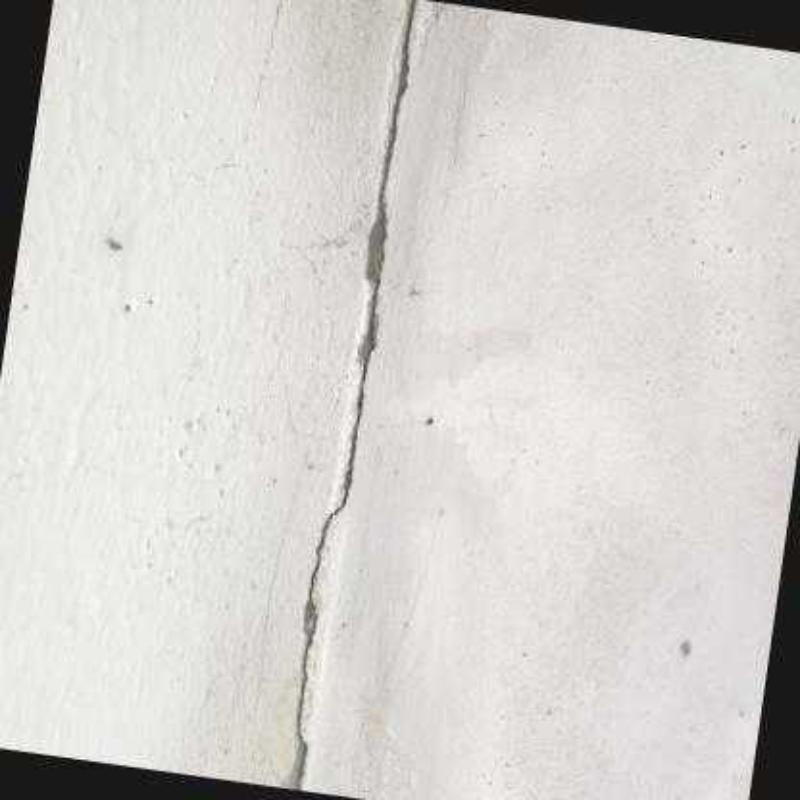pothole: (282, 0, 415, 790)
